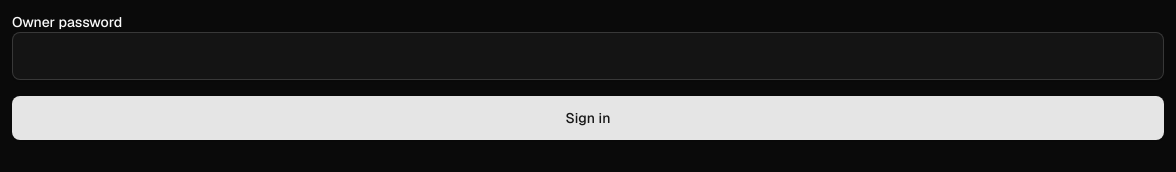
Scenario: KeyForm › offers to merge a listener ballot after the owner signs in
Later steps or results of the test are not shown.
In the password field labelled "Owner password": (588, 56) top-left (12, 32), bottom-right (1164, 80), type "album-secret"
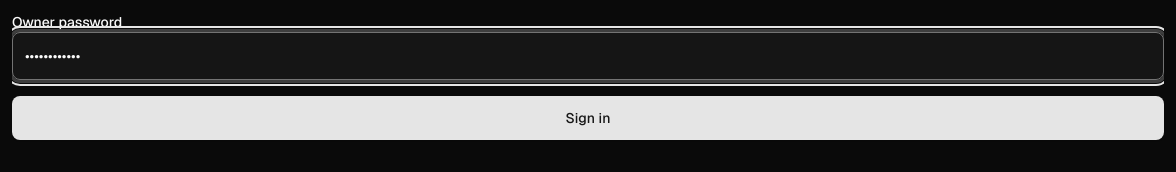
Click the button "Sign in": (588, 118) top-left (12, 96), bottom-right (1164, 140)
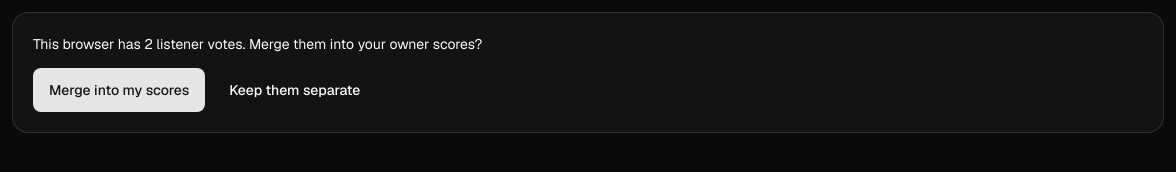
Result: the element named "Merge listener votes" shows "2 listener votes" at top-left (144, 35), bottom-right (243, 53)
